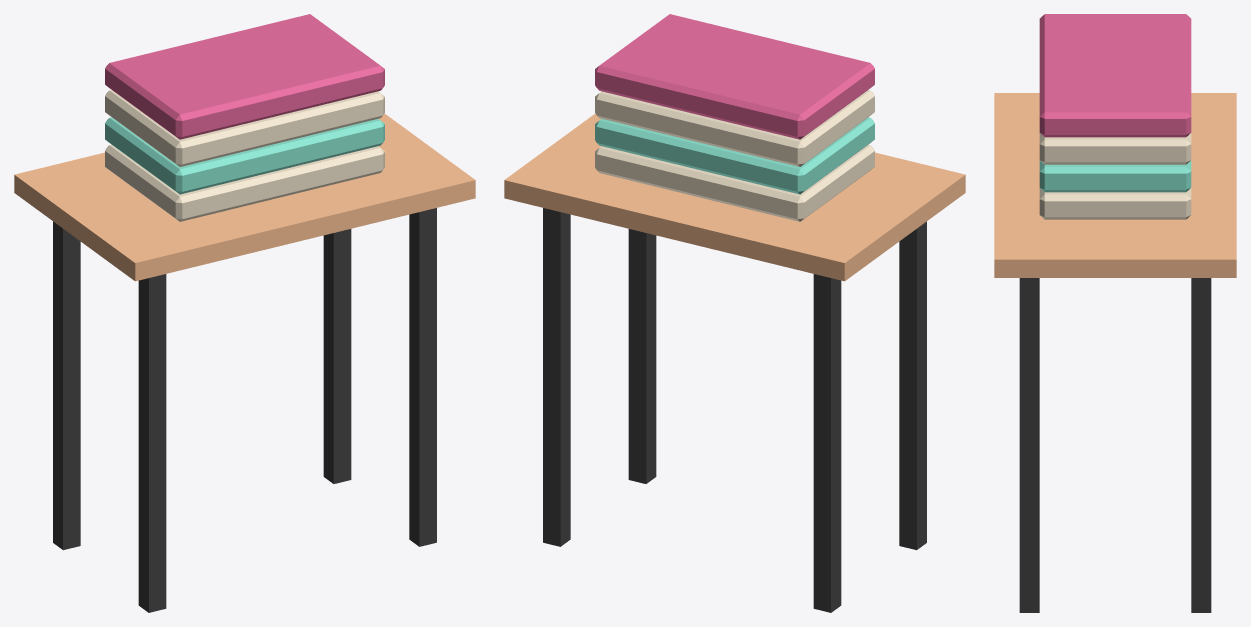
3 renders of one model, left to right at view 1: azimuth 30°, elevation 25°; view 2: azimuth 150°, elevation 25°; view 3: azimuth 270°, elevation 25°, orthographic.
Visible parts, largest first — view 1: Display tabletop, towels3, Display support leg, Display support leg.002, Display support leg.001, towels1, towels2, towels0, Display support leg.003; view 2: Display tabletop, towels3, Display support leg.001, Display support leg.003, Display support leg, towels1, towels2, towels0, Display support leg.002; view 3: Display tabletop, towels3, Display support leg.002, Display support leg.003, towels1, towels0, towels2.
Part boxes in pixels (x1,y1,x2,y2): Display tabletop: (14, 113, 475, 281); towels3: (105, 14, 384, 139); Display support leg: (138, 274, 166, 612); Display support leg.002: (409, 208, 436, 546); Display support leg.001: (53, 221, 80, 550); towels1: (105, 117, 384, 194); towels2: (105, 90, 384, 166); towels0: (105, 144, 384, 221); Display support leg.003: (323, 229, 351, 483); Display tabletop: (504, 113, 965, 281); towels3: (595, 14, 874, 139); Display support leg.001: (813, 274, 841, 612); Display support leg.003: (543, 208, 570, 546); Display support leg: (899, 221, 926, 550); towels1: (595, 117, 874, 194); towels2: (595, 90, 874, 166); towels0: (595, 144, 874, 221); Display support leg.002: (628, 229, 656, 483); Display tabletop: (994, 93, 1236, 277); towels3: (1039, 14, 1191, 137); Display support leg.002: (1019, 278, 1039, 612); Display support leg.003: (1191, 278, 1211, 612); towels1: (1039, 160, 1191, 192); towels0: (1039, 188, 1191, 219); towels2: (1039, 133, 1191, 164).
Bounding box in the file's own units: 78 × 105 × 48.
